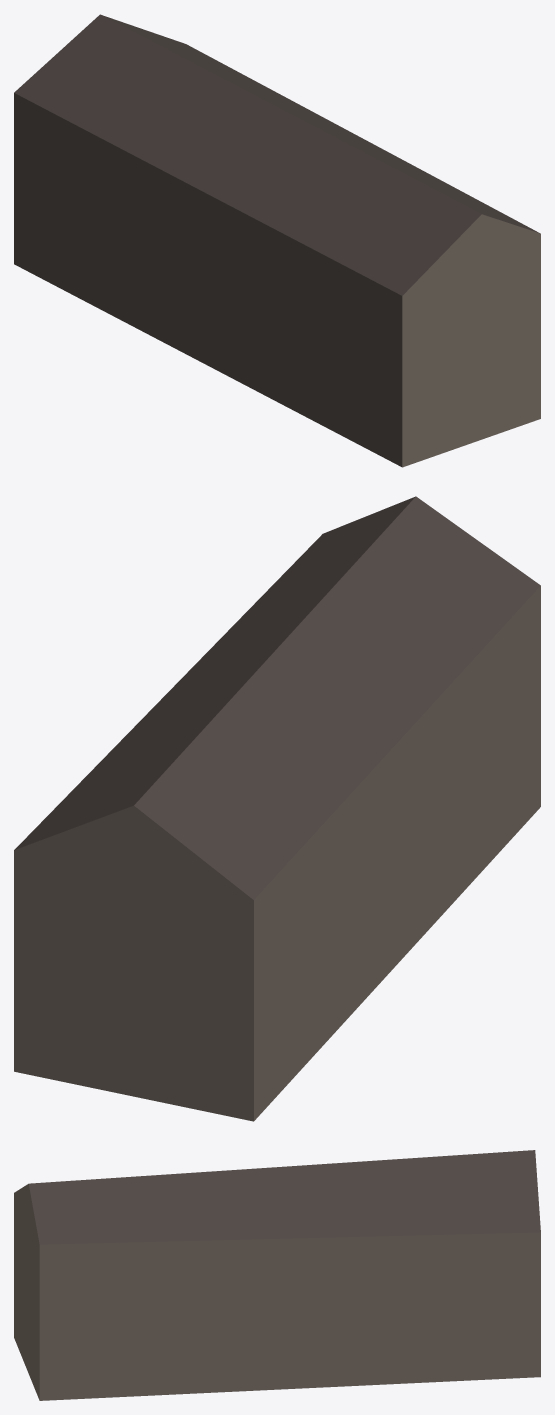
The picture shows the model from 3 angles, top to bottom: view 1: azimuth 30°, elevation 25°; view 2: azimuth 150°, elevation 25°; view 3: azimuth 270°, elevation 25°; orthographic projection. The views are drawn at different scales.
Parts seen in each view (by area): view 1: HP-w1516161969; view 2: HP-w1516161969; view 3: HP-w1516161969.
Part boxes in pixels (box(x1,y1,x2,y2)): HP-w1516161969: box(14, 14, 540, 467); HP-w1516161969: box(14, 496, 540, 1121); HP-w1516161969: box(14, 1150, 540, 1400).
Size of the model in its own units: 8.67 by 7.89 by 19.8.
